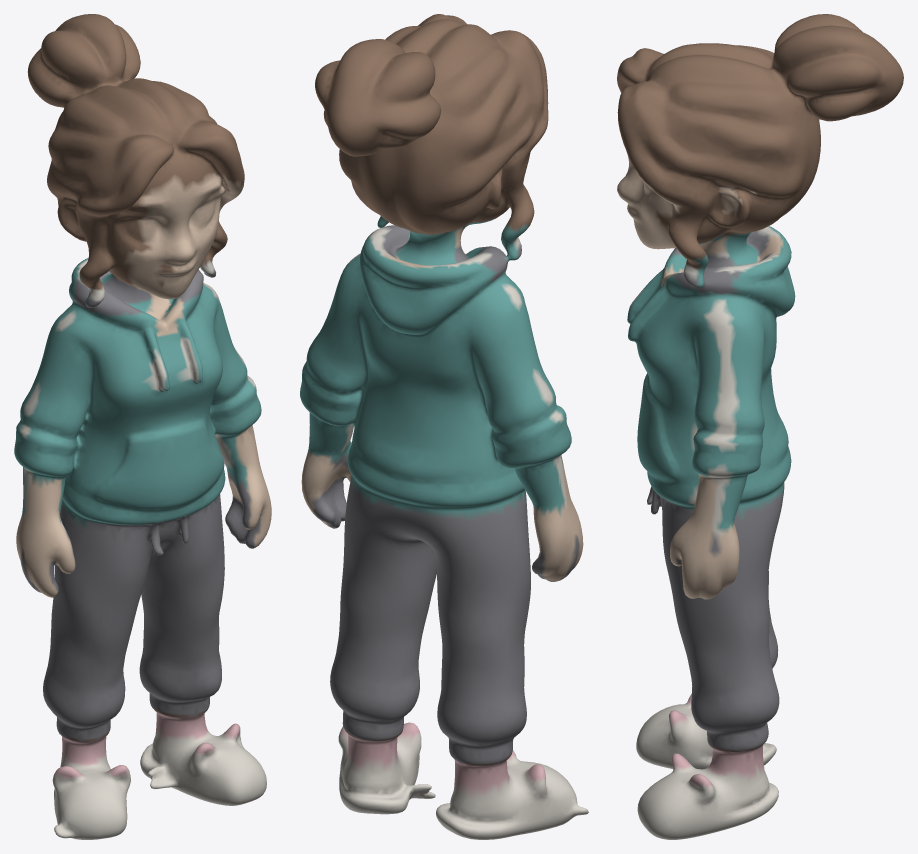
3 renders of one model, left to right at view 1: azimuth 30°, elevation 25°; view 2: azimuth 150°, elevation 25°; view 3: azimuth 270°, elevation 25°, orthographic. The views are drawn at different scales.
Parts seen in each view (by area): view 1: tmpaowg7v6f.ply; view 2: tmpaowg7v6f.ply; view 3: tmpaowg7v6f.ply.
Part boxes in pixels (box(x1,y1,x2,y2)): tmpaowg7v6f.ply: box(14, 14, 271, 839); tmpaowg7v6f.ply: box(300, 14, 588, 839); tmpaowg7v6f.ply: box(617, 14, 903, 839).
Bounding box in the file's own units: 0.6885 × 2 × 0.6733.
